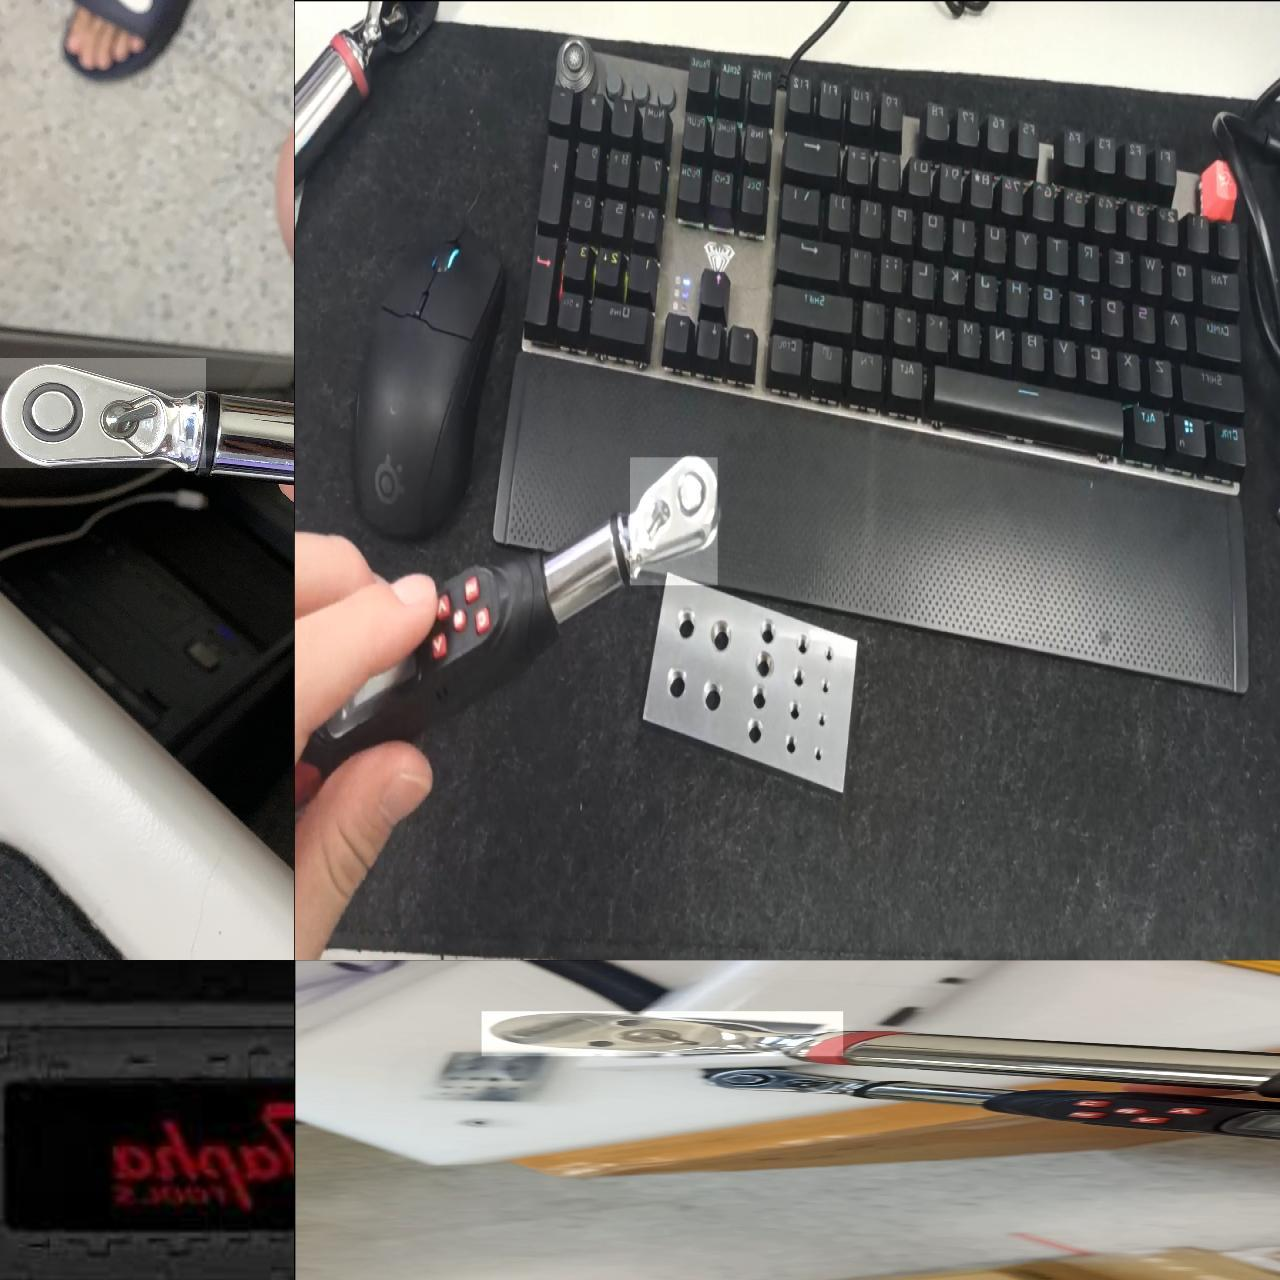Tool: (0, 358, 205, 467), (479, 1012, 842, 1056), (629, 456, 717, 584), (700, 1068, 858, 1096)
